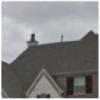chimneys: (26, 32, 40, 48)
